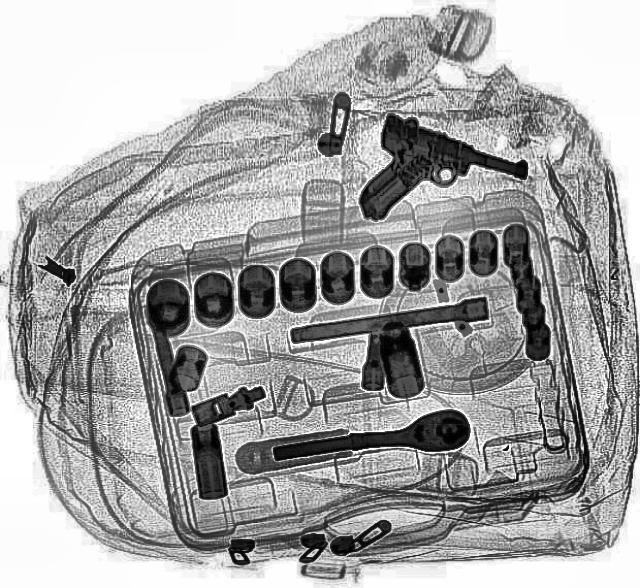Gun: (342, 110, 532, 254)
